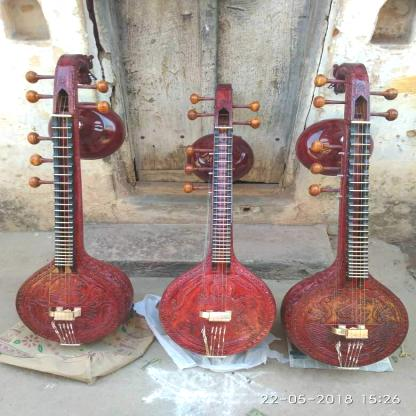Veena: (9, 42, 148, 354), (286, 58, 413, 376), (160, 73, 276, 368)
